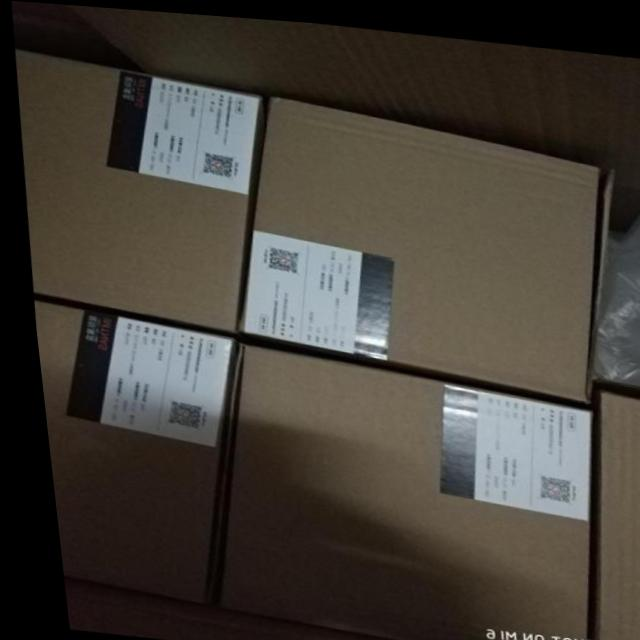box: (199, 341, 584, 640), (230, 88, 599, 397), (15, 51, 259, 330), (28, 298, 233, 604), (577, 382, 640, 640)
